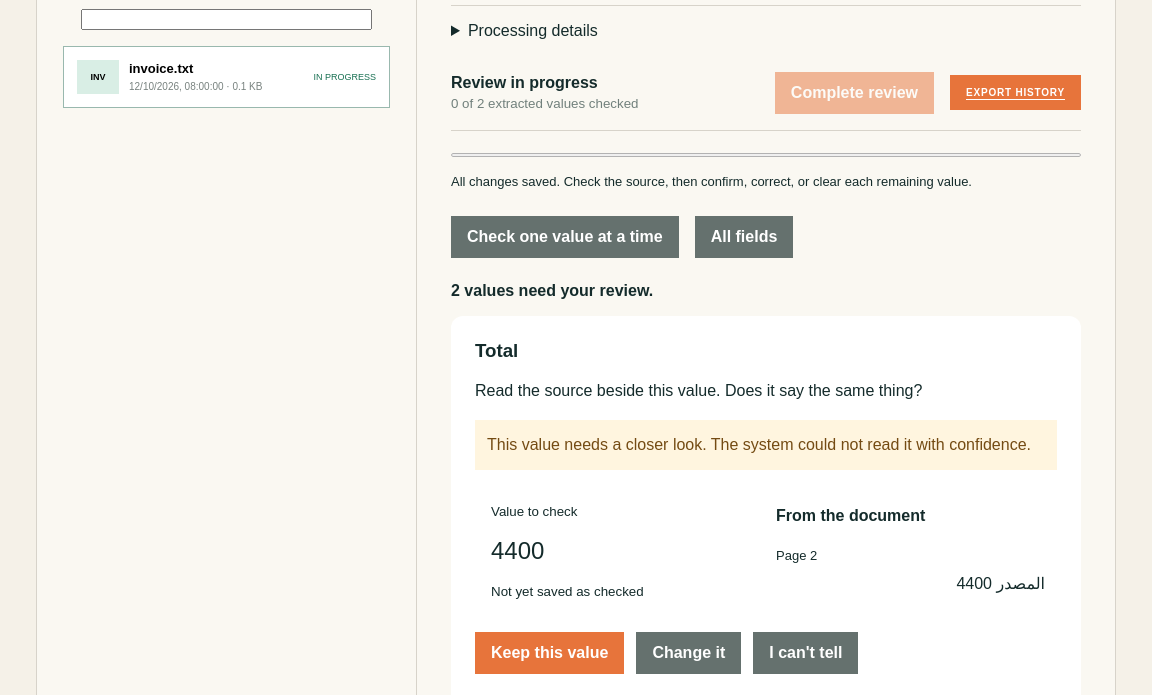
it: low-effort value review › offers short reasons without typing and saves the explicit correction with its source identity
(page scrolled)
Step 1. Click the button "Change it" → (689, 653), box [636,632,741,674]
(page scrolled)
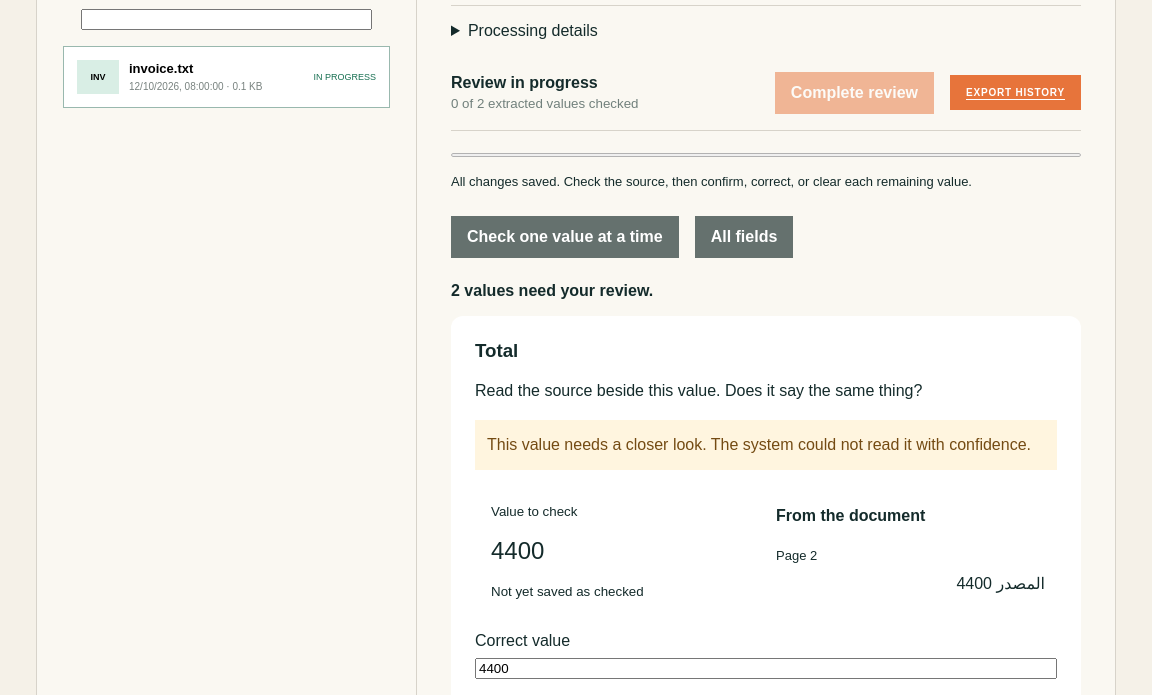
Step 2. Replace the text in the field labelled "Correct value" with "شركة النور 4400" → (766, 668), box [475,658,1057,679]
(page scrolled)
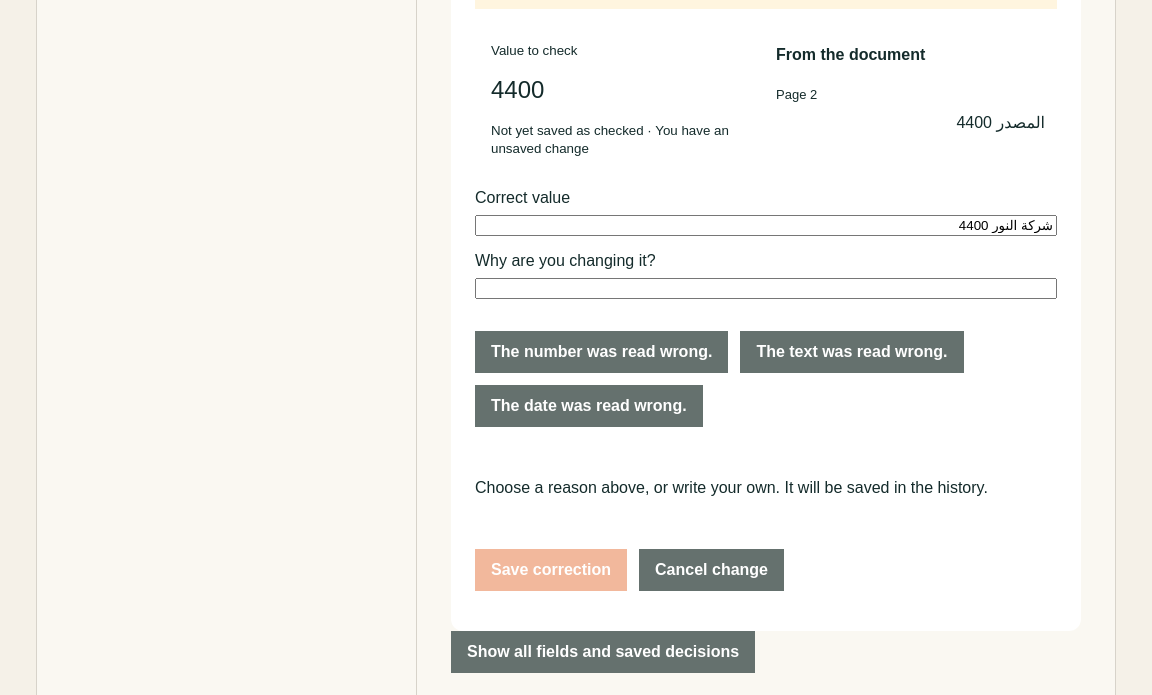
Expected: the button "Save correction" is disabled, [475,548,627,590]
Step 3. Click the button "The text was read wrong." → (852, 352), box [740,331,964,373]
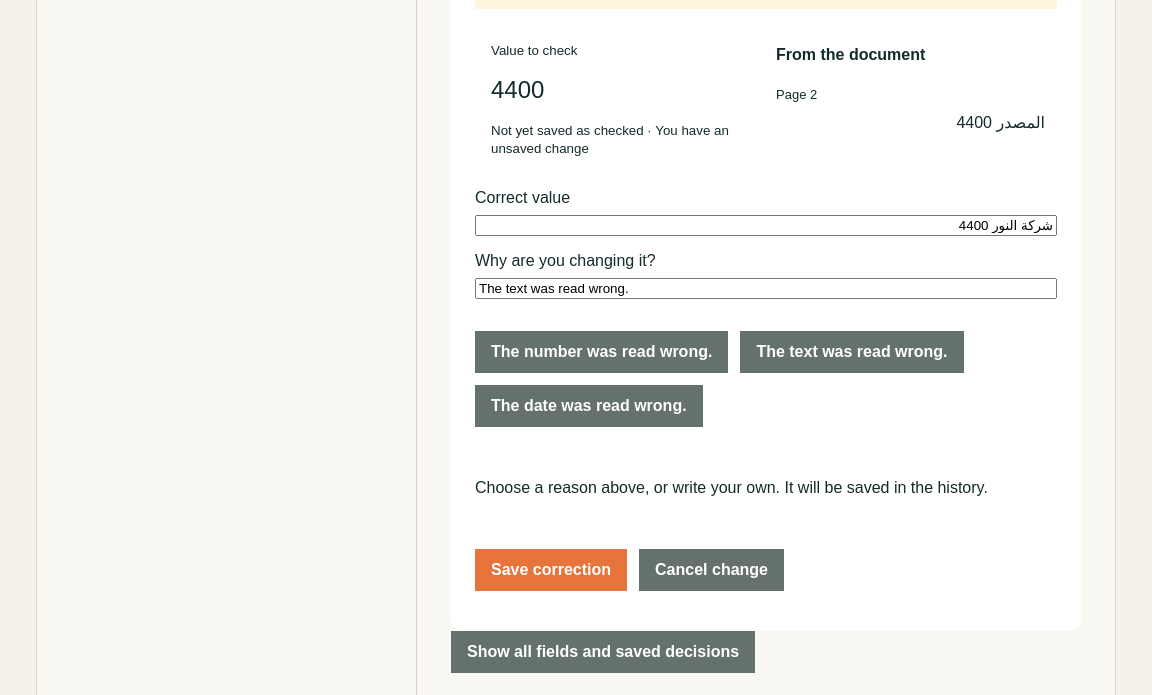
Step 4. Click the button "Save correction" → (551, 570), box [475,548,627,590]
(page scrolled)
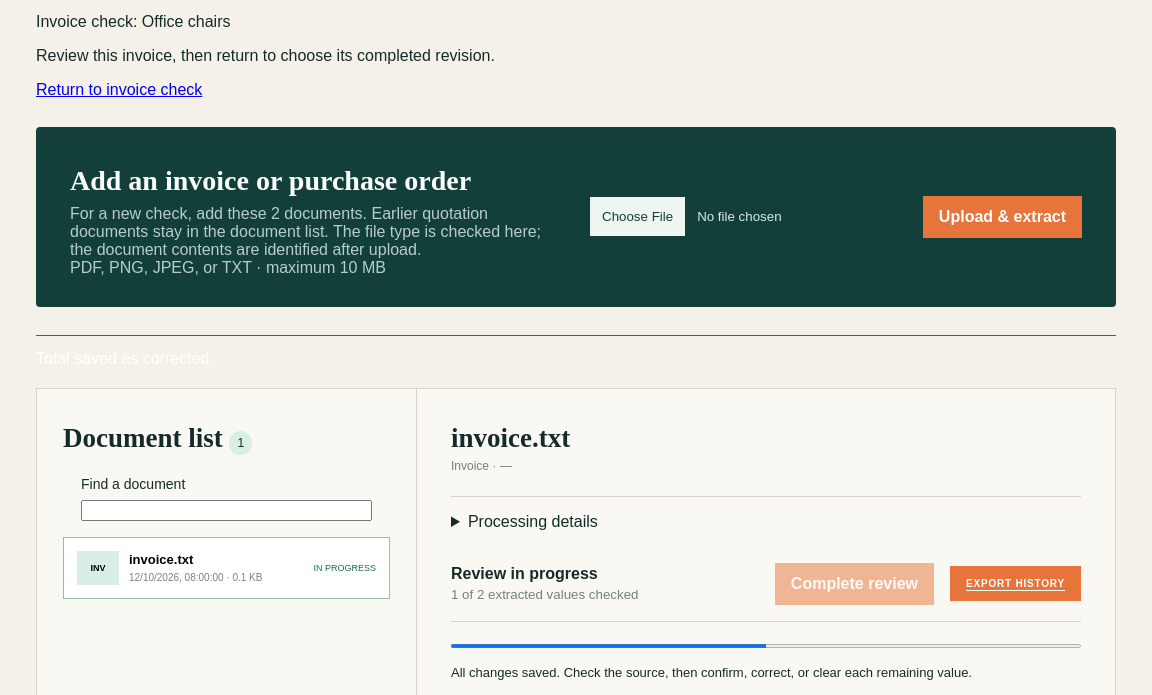
Expected: the text "Total saved as corrected." is shown, [36,335,1116,368]
